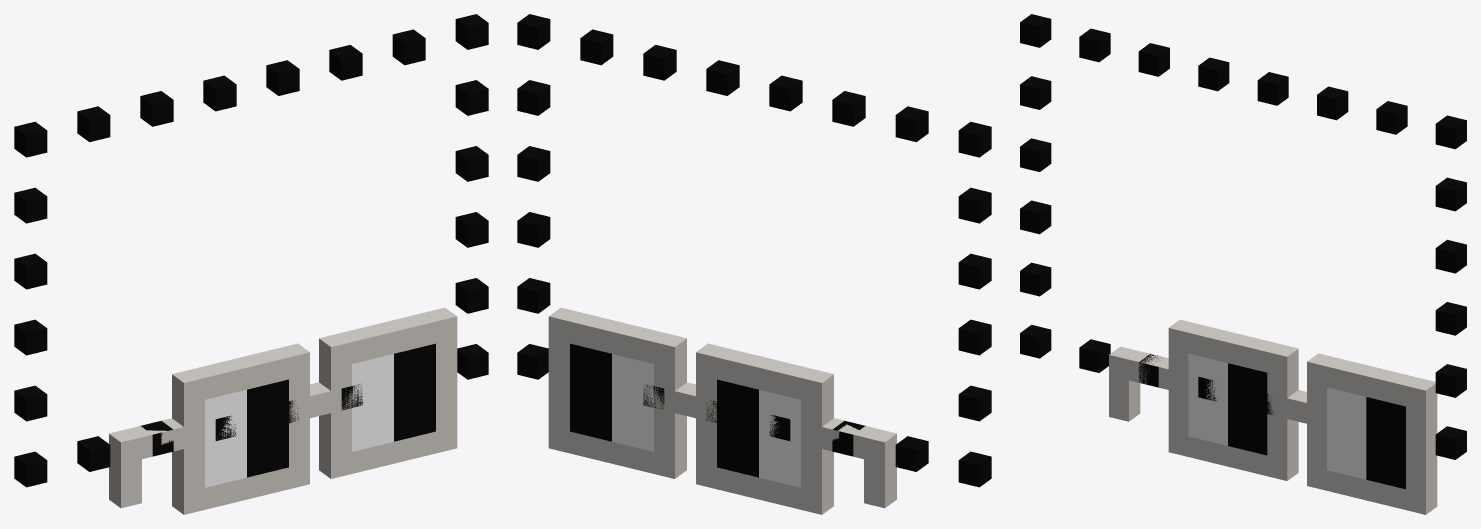
The model's file is void.glb.
3 renders of one model, left to right at view 1: azimuth 30°, elevation 25°; view 2: azimuth 150°, elevation 25°; view 3: azimuth 330°, elevation 25°, orthographic. The views are drawn at different scales.
Visible parts, largest first — view 1: glasses, base, layer-2; view 2: glasses, base, layer-2; view 3: glasses, base, layer-2.
Part boxes in pixels (left/top/right/bottom): glasses: left=109, top=307, right=457, bottom=514; base: left=14, top=14, right=488, bottom=487; layer-2: left=205, top=343, right=435, bottom=487; glasses: left=548, top=307, right=896, bottom=514; base: left=517, top=14, right=991, bottom=487; layer-2: left=570, top=343, right=800, bottom=487; glasses: left=1109, top=319, right=1437, bottom=514; base: left=1020, top=14, right=1466, bottom=459; layer-2: left=1188, top=353, right=1405, bottom=489.
Size of the model in its own units: 22 by 19 by 1.
Materials: 5 (5 with a texture image).
